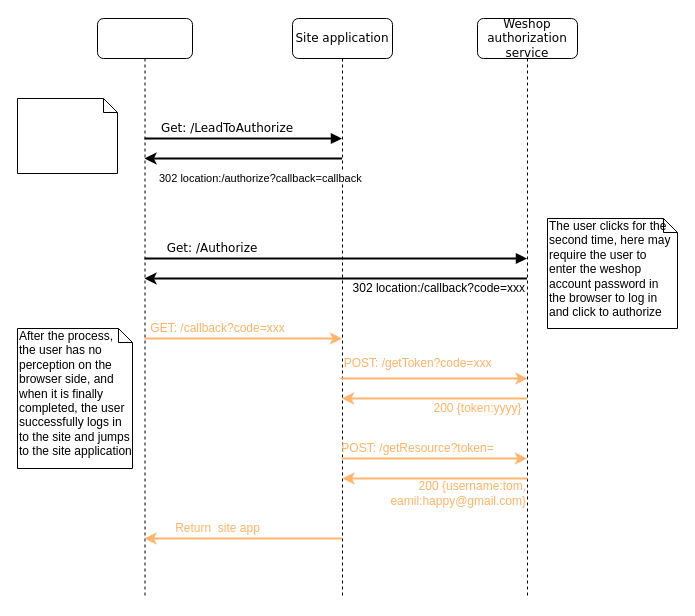
This 695x616 diagram has some shape labels left out. Here are the shapes that lost their labels. From the top down, the centre of each, then its label:
the point at 67,136: The user copies the coupon code and clicks on the site for the first time.
the point at 144,308: user browser
